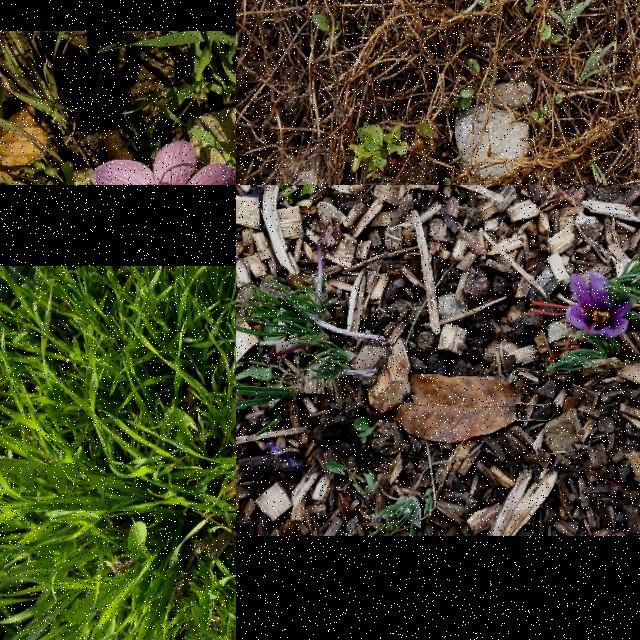flower: (530, 272, 634, 338), (92, 141, 236, 185)
